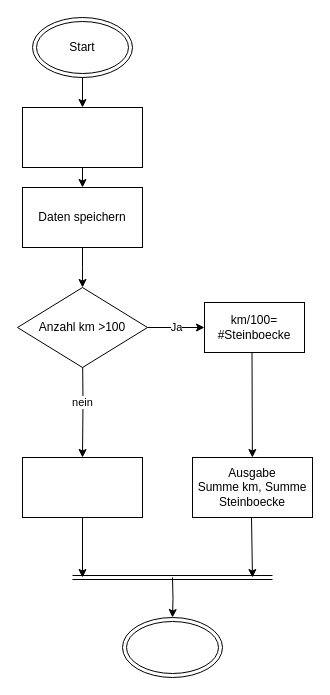
Some shapes in this 330 by 695 pixel diagram are drawn without their labels. The shapes that lost their labels are listed below. From the top down, each one's box as (x1, y1, x2, y2) in pixels, then its label:
(22, 106, 142, 168): erforderliche Daten eingeben
(22, 456, 142, 518): Ausgabe #Summe km, Add 0 Steinboecke
(122, 616, 222, 678): Ende
